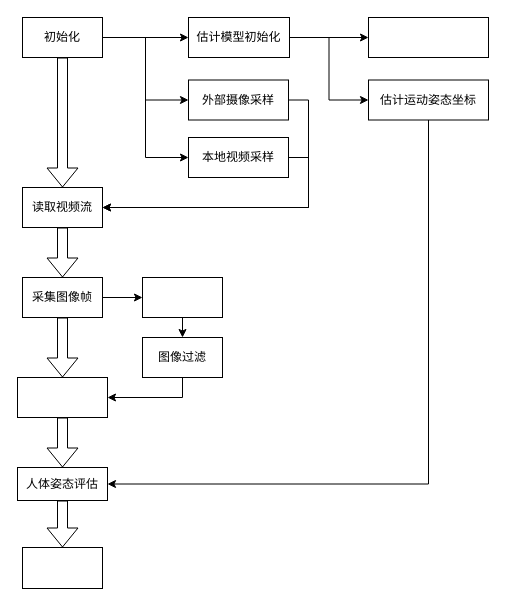
The diagram is 506 pixels wide and 606 high, and some of its shapes have lost their labels. The centre of each missing label's shape, as x and y in pixels:
"人体姿态识别" belongs at (62,397).
"加载模型参数" belongs at (428,37).
"系统返回 姿态评估" belongs at (62,567).
"间隔采集" belongs at (182,297).
